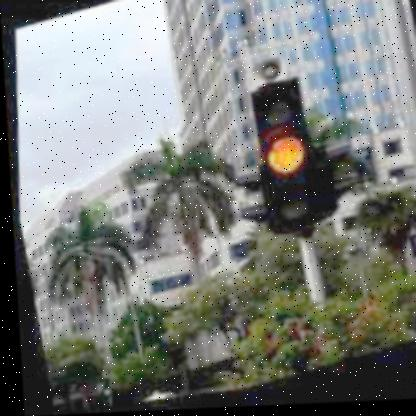Traffic Light -Yellow-: (241, 81, 325, 241)
